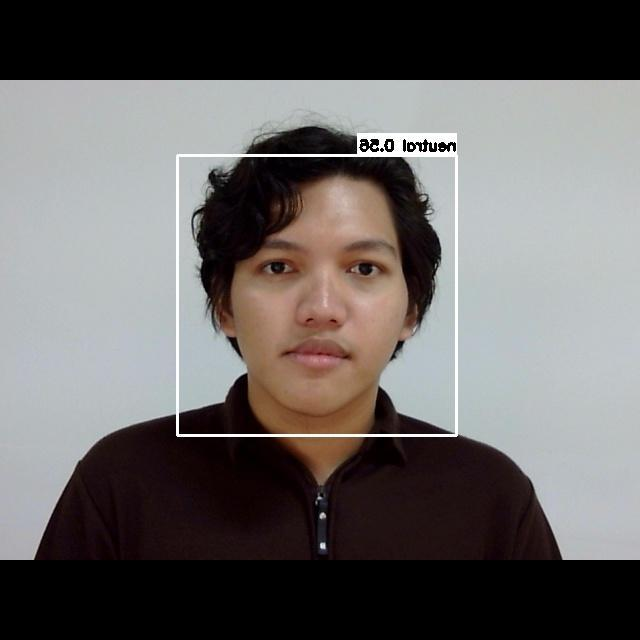Natural: (224, 224, 420, 419)
